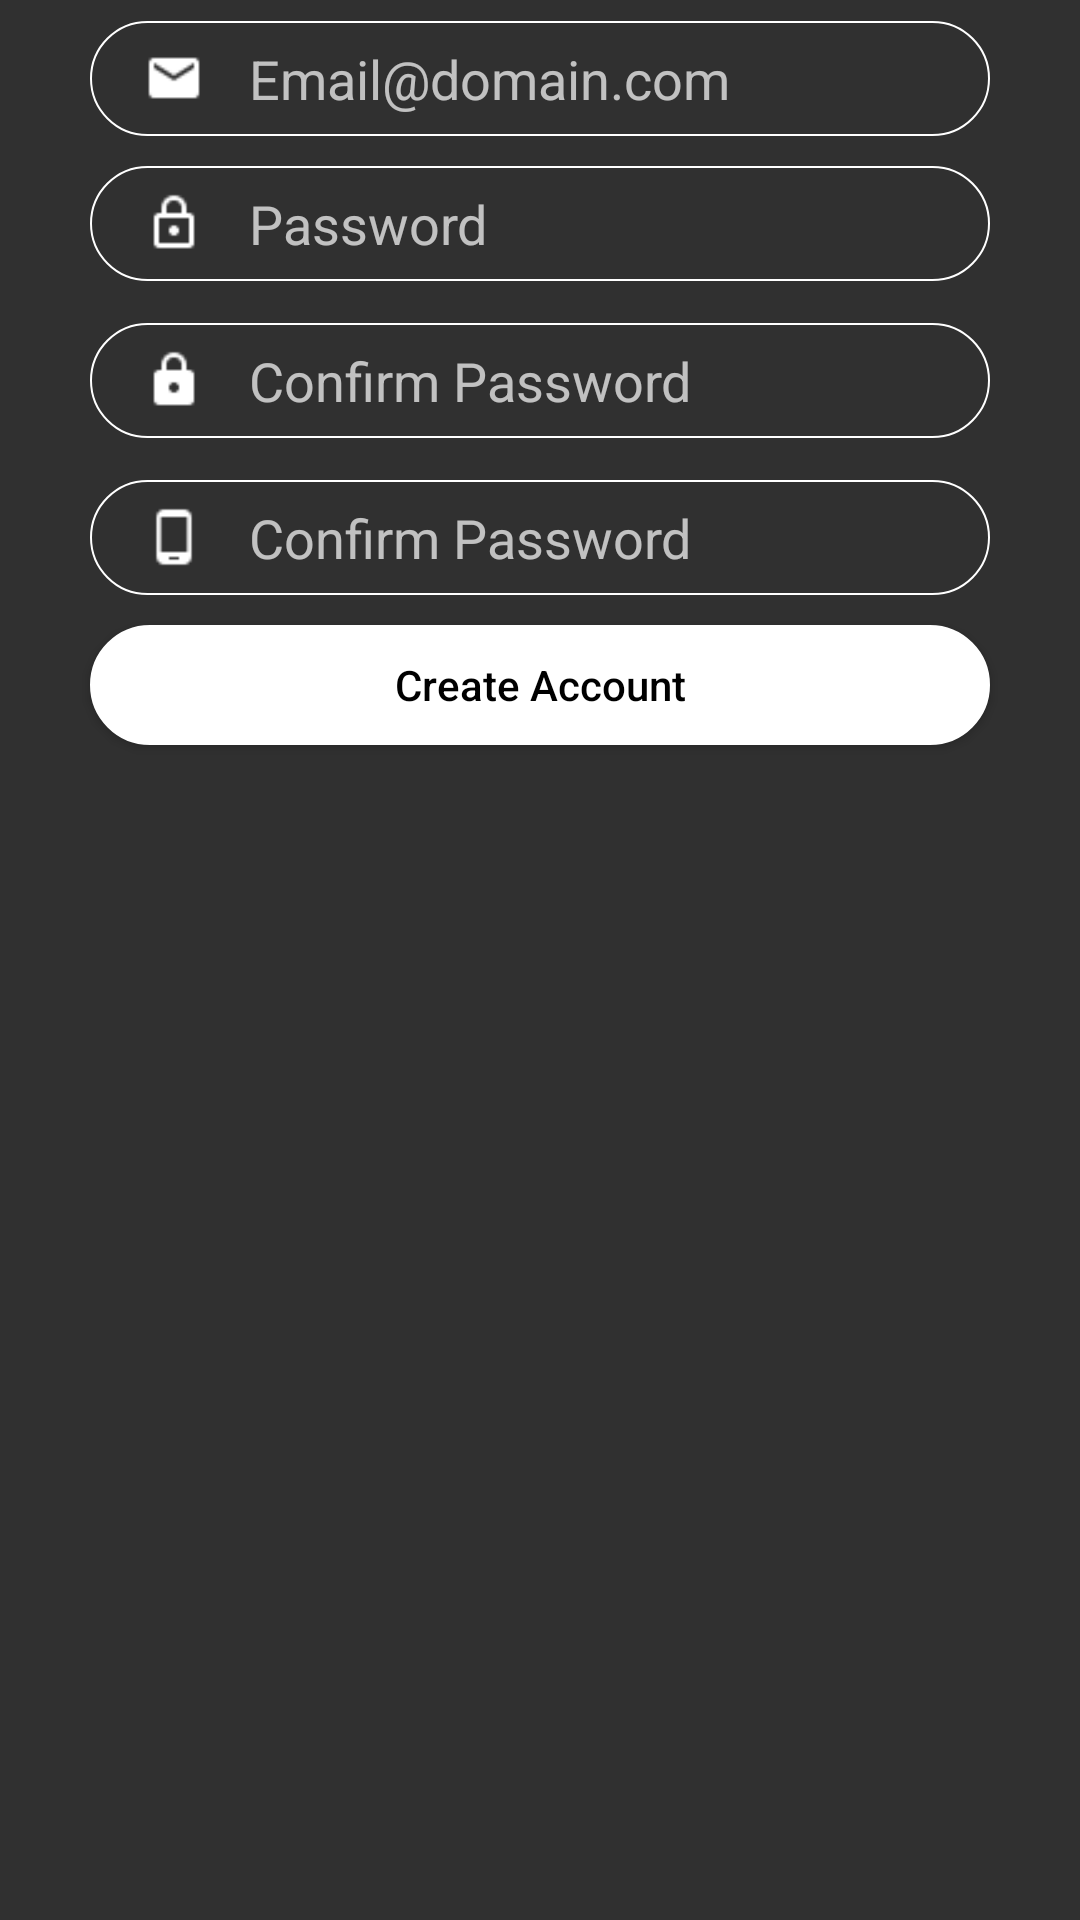

Icon bounding boxes for this 1080x1920 phone screenshot, format (x1, y1, x2, y2):
lock: (153, 195, 195, 249), (153, 352, 195, 406)
phone android: (156, 509, 192, 565)
